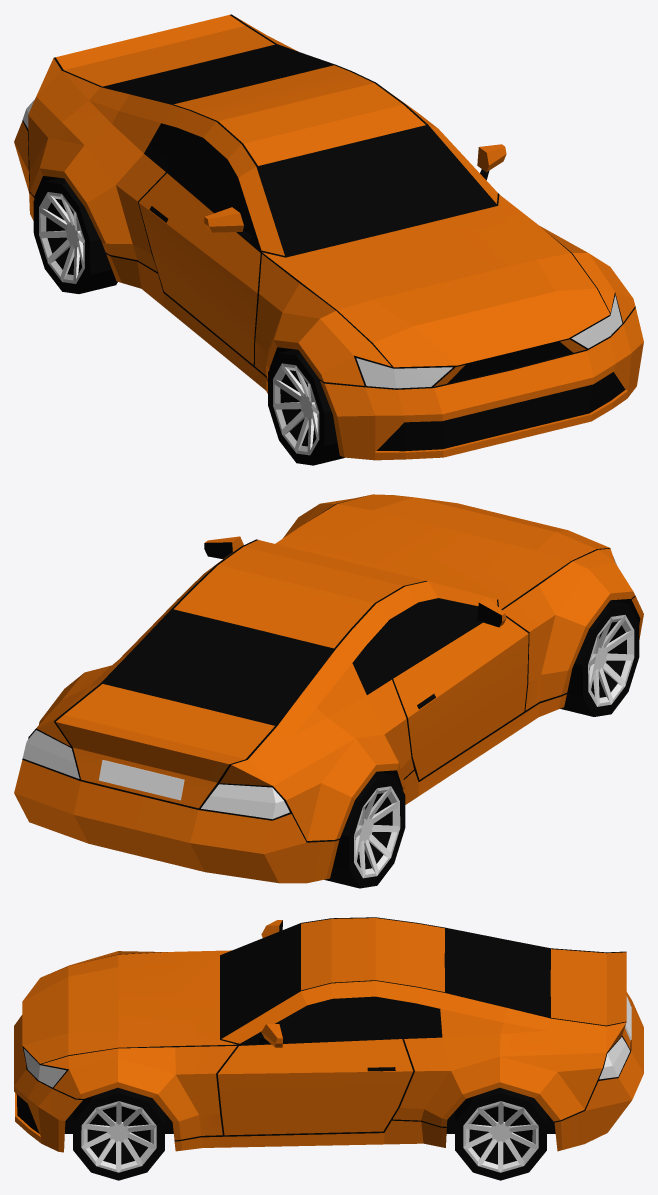
The model's file is Coupe.glb.
The picture shows the model from 3 angles, top to bottom: view 1: azimuth 30°, elevation 25°; view 2: azimuth 150°, elevation 25°; view 3: azimuth 270°, elevation 25°; orthographic projection. The views are drawn at different scales.
Visible parts, largest first — view 1: Coupe; view 2: Coupe; view 3: Coupe.
Part boxes in pixels (box(x1,y1,x2,y2)): Coupe: box(14, 14, 643, 465); Coupe: box(14, 494, 643, 888); Coupe: box(14, 917, 643, 1180).
Size of the model in its own units: 3.21 by 2.02 by 6.81.
